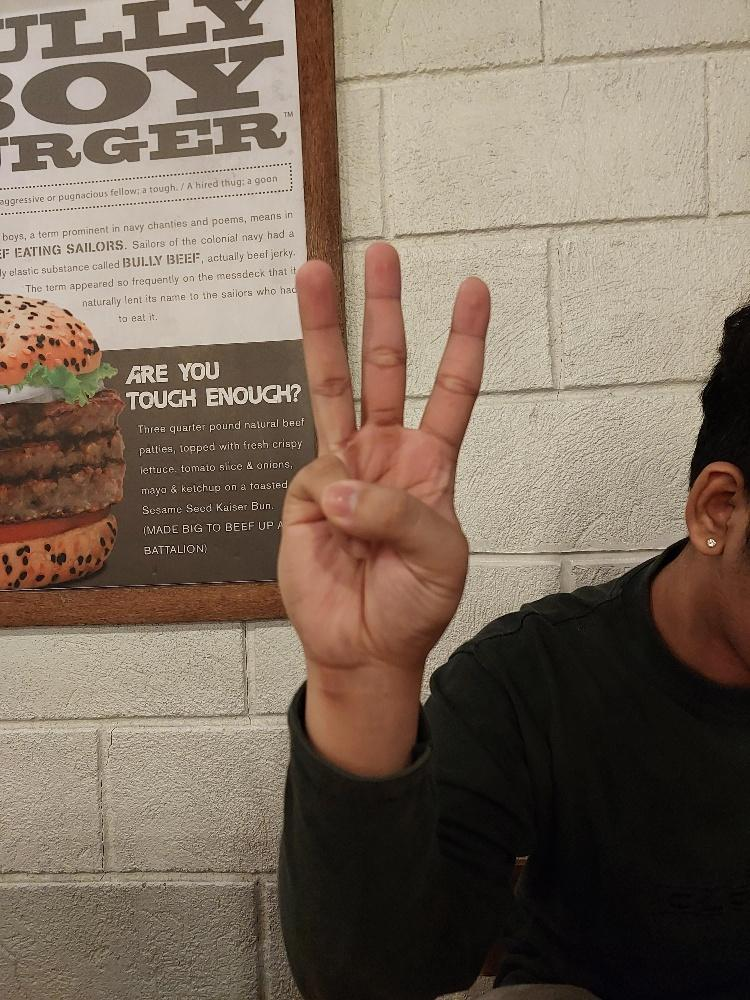w: (275, 239, 493, 673)
